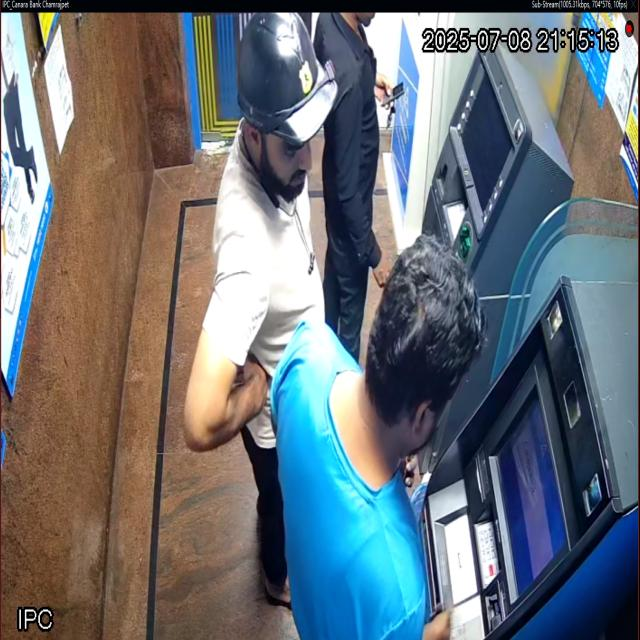helmet: (235, 13, 339, 202)
no_helmet: (357, 233, 488, 470)
